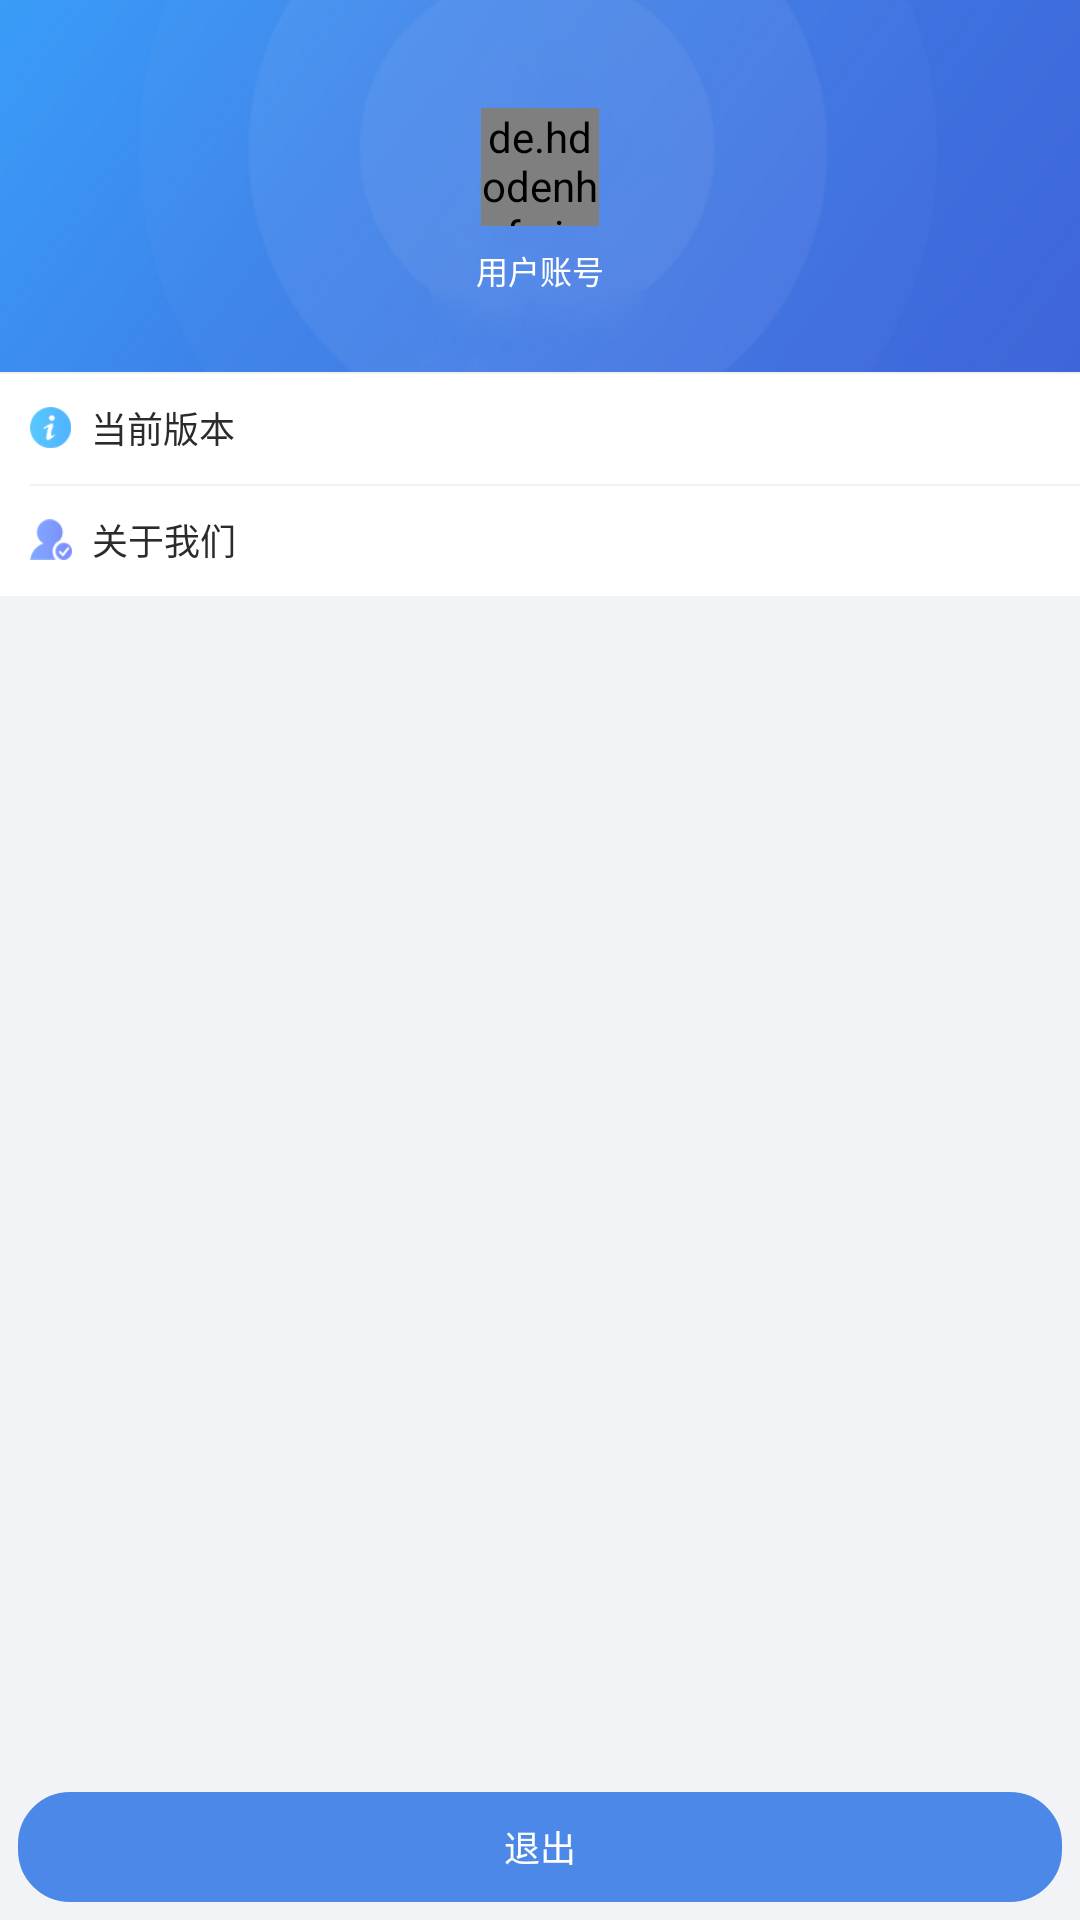

Where icons sit on this 1080px×1920px app screen, as (x1, y1, x2, y2):
version: (30, 407, 71, 448)
